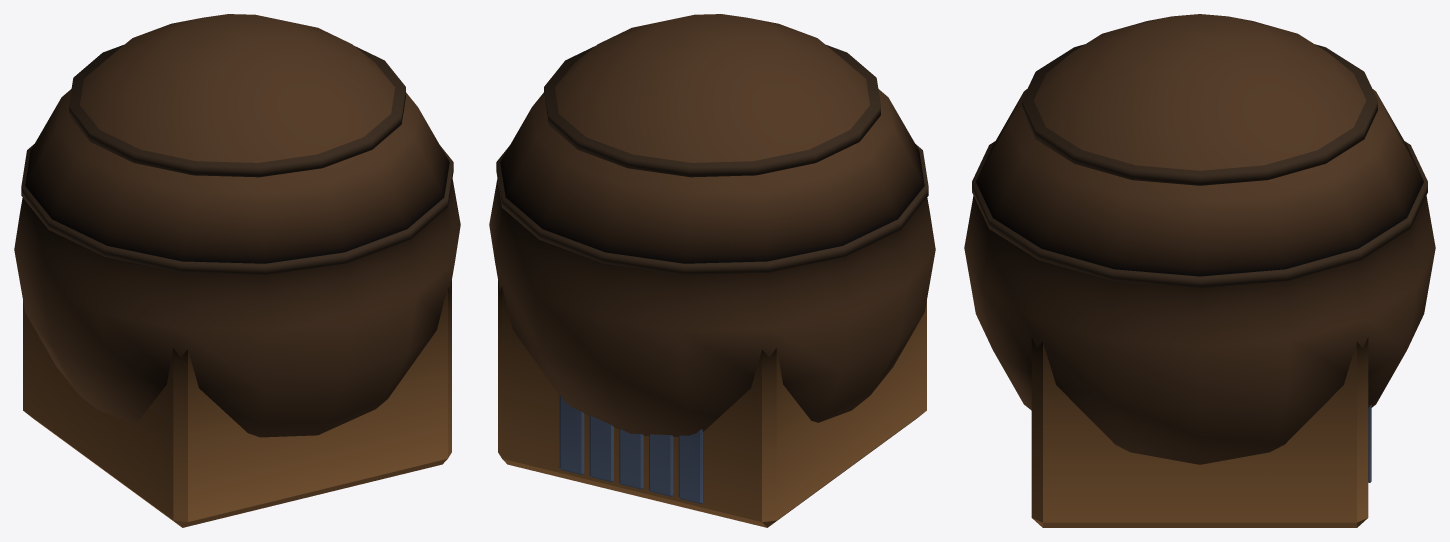
Rendered from house_hut.glb.
3 views of the same model, side by side, from view 1: azimuth 30°, elevation 25°; view 2: azimuth 150°, elevation 25°; view 3: azimuth 270°, elevation 25° (orthographic). The views are drawn at different scales.
Parts seen in each view (by area): view 1: house_hut; view 2: house_hut; view 3: house_hut.
Boxes of the visible parts, x1,y1,x2,y2 form: house_hut: (14, 14, 460, 527); house_hut: (489, 14, 935, 527); house_hut: (964, 14, 1435, 527).
Bounding box in the file's own units: 2.1 × 2.1 × 2.1.
